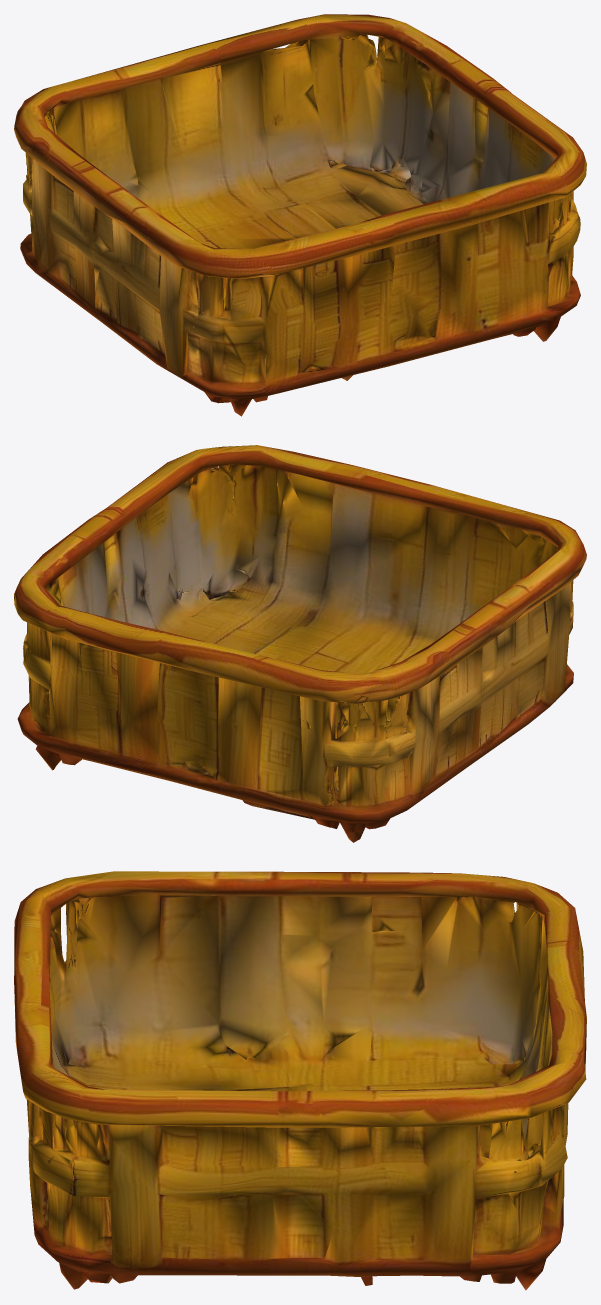
The model's file is basket_redwood.glb.
3 views of the same model, one above another, from view 1: azimuth 30°, elevation 25°; view 2: azimuth 150°, elevation 25°; view 3: azimuth 270°, elevation 25° (orthographic). The views are drawn at different scales.
Visible parts, largest first — view 1: tripo_node_a13c293c-2e28-4616-ada8-150f4e3ced74; view 2: tripo_node_a13c293c-2e28-4616-ada8-150f4e3ced74; view 3: tripo_node_a13c293c-2e28-4616-ada8-150f4e3ced74.
Boxes of the visible parts, x1,y1,x2,y2 form: tripo_node_a13c293c-2e28-4616-ada8-150f4e3ced74: (14, 14, 586, 416); tripo_node_a13c293c-2e28-4616-ada8-150f4e3ced74: (14, 445, 586, 842); tripo_node_a13c293c-2e28-4616-ada8-150f4e3ced74: (14, 871, 586, 1290).
Size of the model in its own units: 0.9978 by 0.4223 by 0.995.
1 material, 1 textured.
